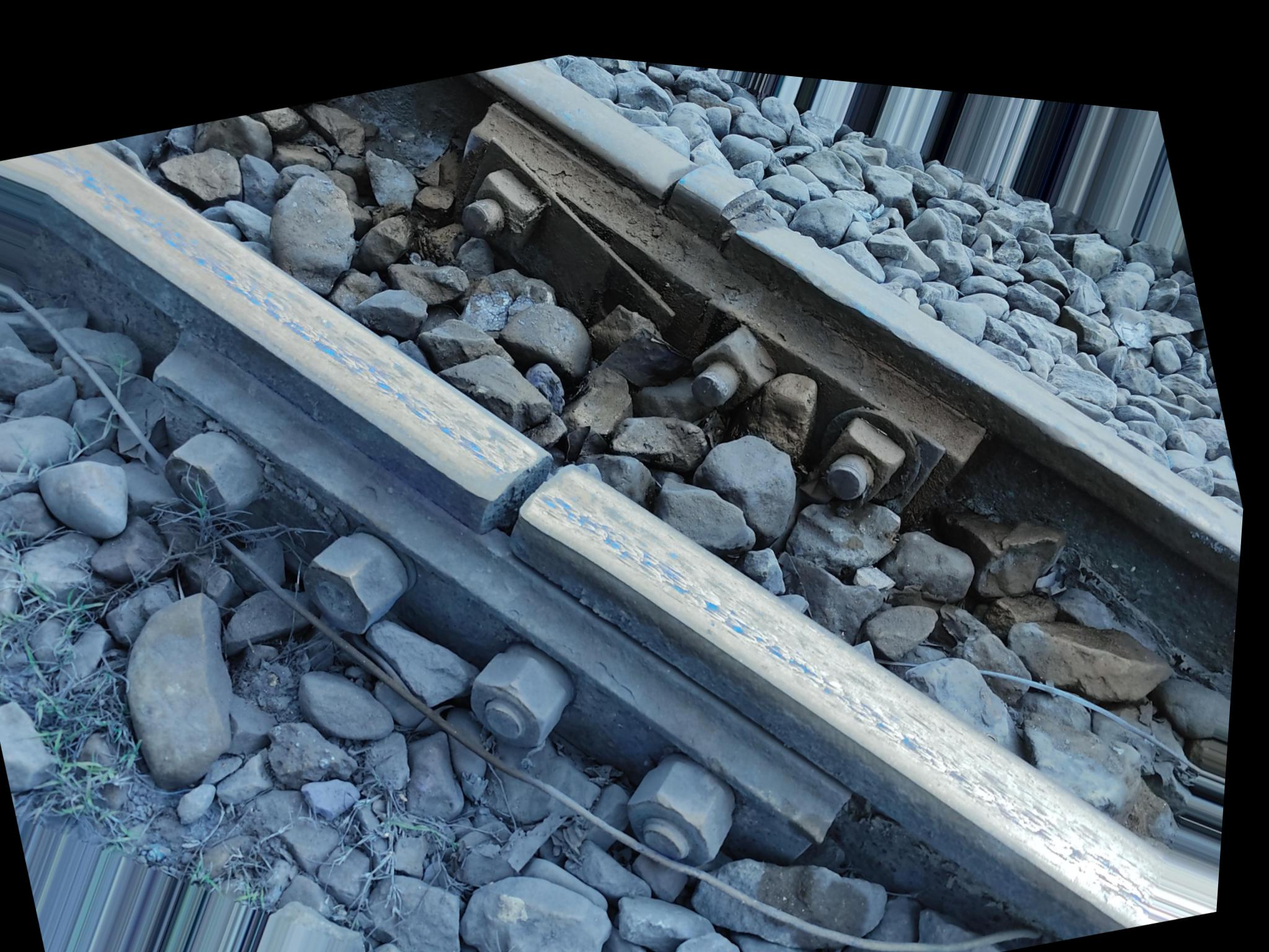person: (314, 282, 738, 679), (504, 39, 851, 322)
